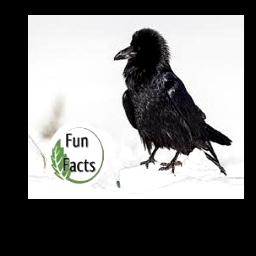Crow: (113, 28, 231, 176)
